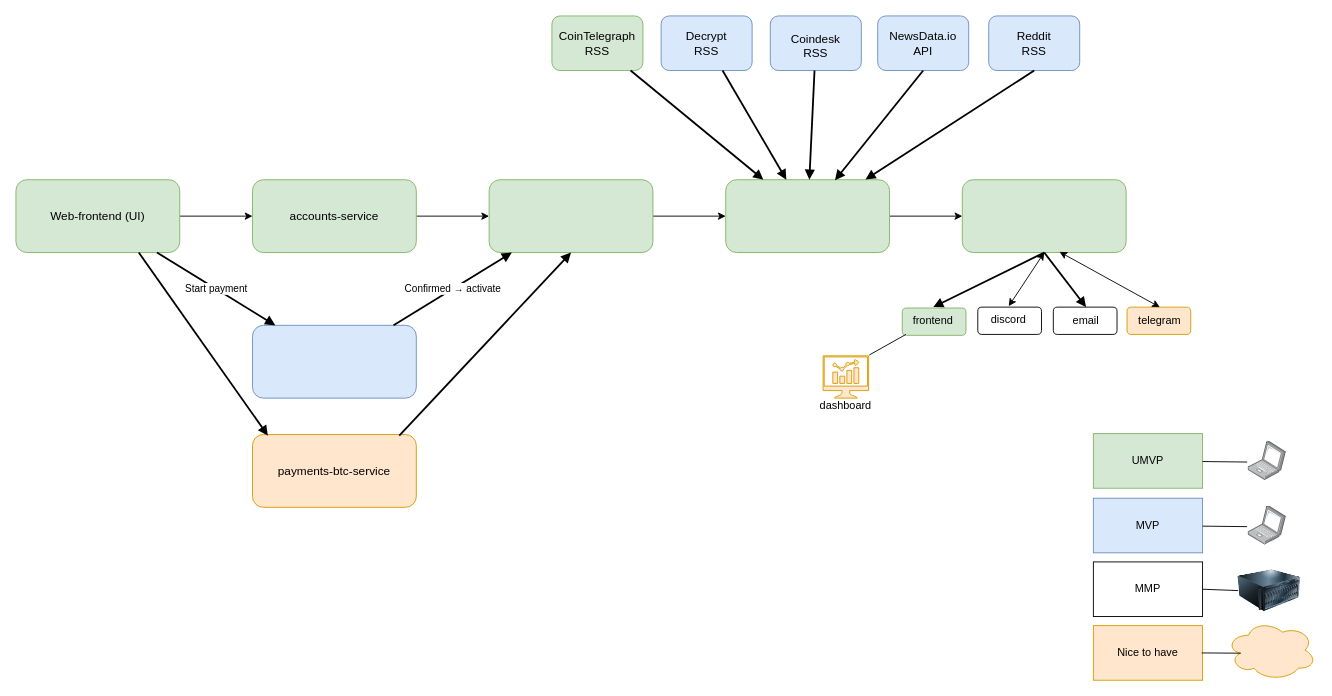
Image size: 1332x696. Some labels were removed from this diagram. Each missing label, with the box of its shape:
notifications-service: (961, 179, 1126, 253)
payments-xmr-service: (252, 324, 416, 398)
reporter-service: (725, 179, 890, 253)
subscriptions-service: (488, 179, 653, 253)
